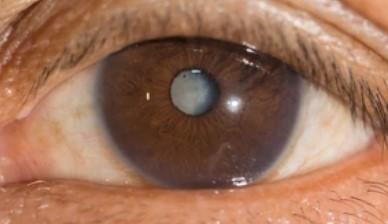eye: (98, 44, 300, 186)
